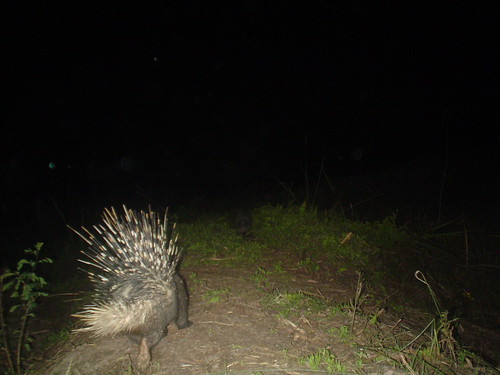porcupine: (60, 189, 204, 372)
